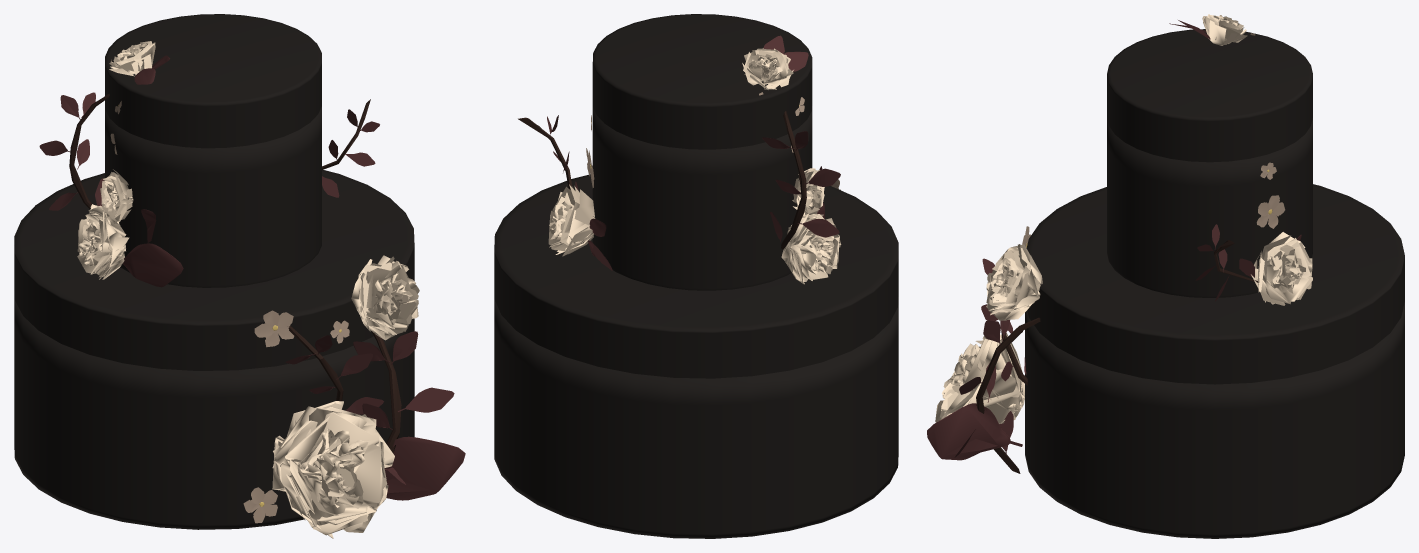
File: 2-tier-black-roses-none.glb
The picture shows the model from 3 angles, left to right: view 1: azimuth 30°, elevation 25°; view 2: azimuth 150°, elevation 25°; view 3: azimuth 270°, elevation 25°; orthographic projection. The views are drawn at different scales.
Visible parts, largest first — view 1: Cylinder.023, Cylinder.013, grid.025, grid.024, Plane.049, Plane.059, grid.026, Plane.056, Plane.058, Plane.052, Plane.045, grid.027 (+3 smaller); view 2: Cylinder.023, Cylinder.013, grid.026, Plane.056, grid.028, grid.014, grid.027, Plane.045; view 3: Cylinder.023, Cylinder.013, grid.025, grid.028, Plane.049, grid.024, Plane.059, Plane.045, grid.014, Plane.058, Sphere.032.
Boxes of the visible parts, x1,y1,x2,y2 form: Cylinder.023: [14, 170, 414, 529]; Cylinder.013: [105, 14, 321, 287]; grid.025: [272, 401, 394, 538]; grid.024: [351, 255, 419, 340]; Plane.049: [384, 436, 465, 500]; Plane.059: [353, 331, 454, 484]; grid.026: [77, 204, 129, 279]; Plane.056: [39, 92, 109, 210]; Plane.058: [285, 325, 383, 414]; Plane.052: [122, 243, 183, 287]; Plane.045: [322, 99, 379, 197]; grid.027: [100, 169, 133, 223]; Cylinder.023: [494, 174, 898, 538]; Cylinder.013: [592, 14, 812, 290]; grid.026: [781, 213, 841, 284]; Plane.056: [762, 111, 840, 249]; grid.028: [548, 184, 595, 256]; grid.014: [742, 48, 793, 89]; grid.027: [792, 168, 824, 219]; Plane.045: [518, 115, 578, 190]; Cylinder.023: [1025, 184, 1404, 538]; Cylinder.013: [1107, 29, 1312, 297]; grid.025: [935, 328, 1024, 423]; grid.028: [1251, 232, 1312, 305]; Plane.049: [927, 403, 1022, 460]; grid.024: [986, 244, 1042, 320]; Plane.059: [954, 317, 1040, 473]; Plane.045: [1195, 224, 1259, 301]; grid.014: [1202, 14, 1247, 45]; Plane.058: [981, 258, 1027, 385]; Sphere.032: [1256, 195, 1285, 228].
Bounding box in the file's own units: 3.4 × 3.99 × 4.11.
